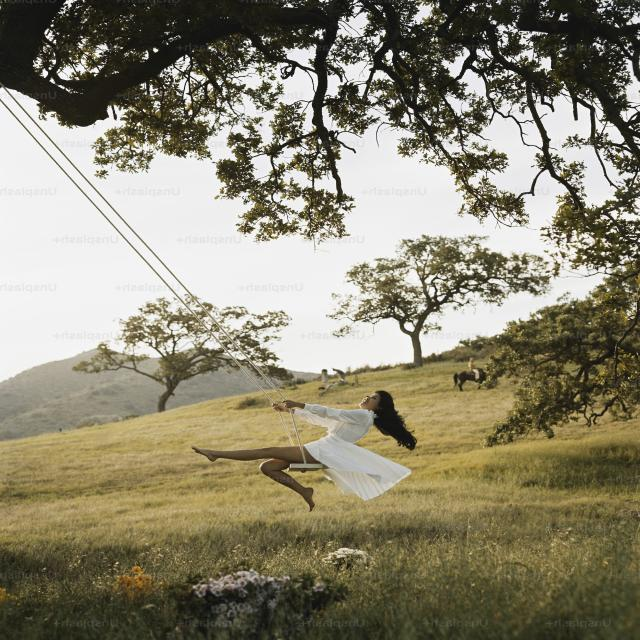adult: (190, 392, 413, 512)
